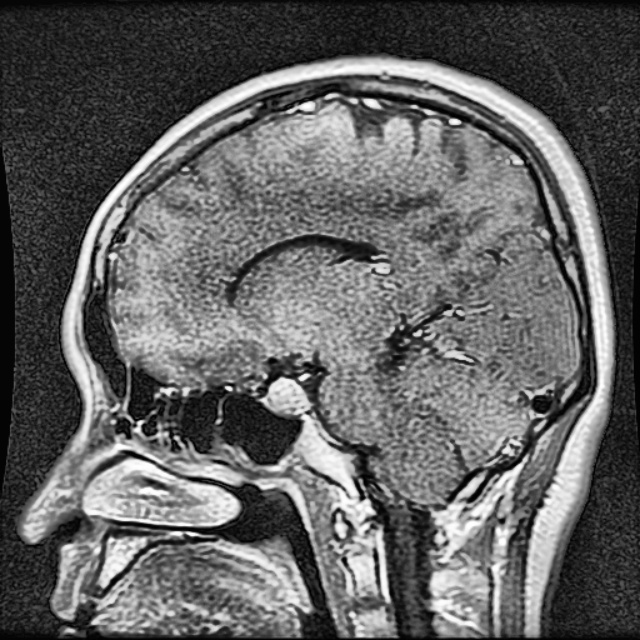Pituitary: (264, 378, 307, 413)
